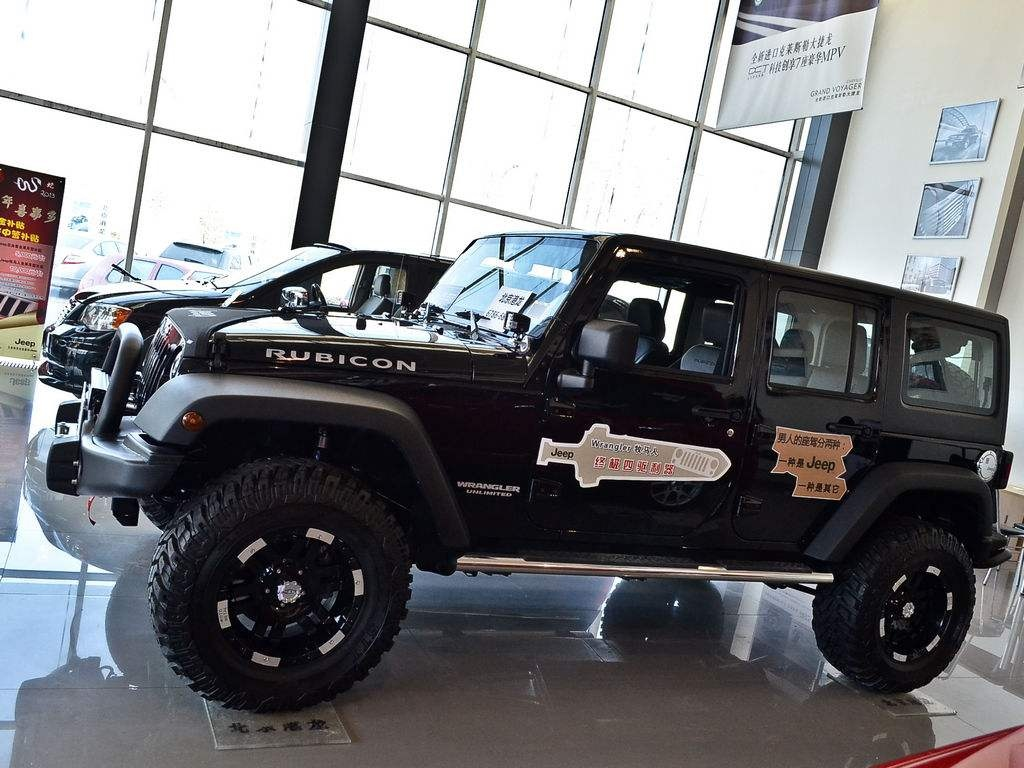jeep: (108, 184, 1009, 717)
